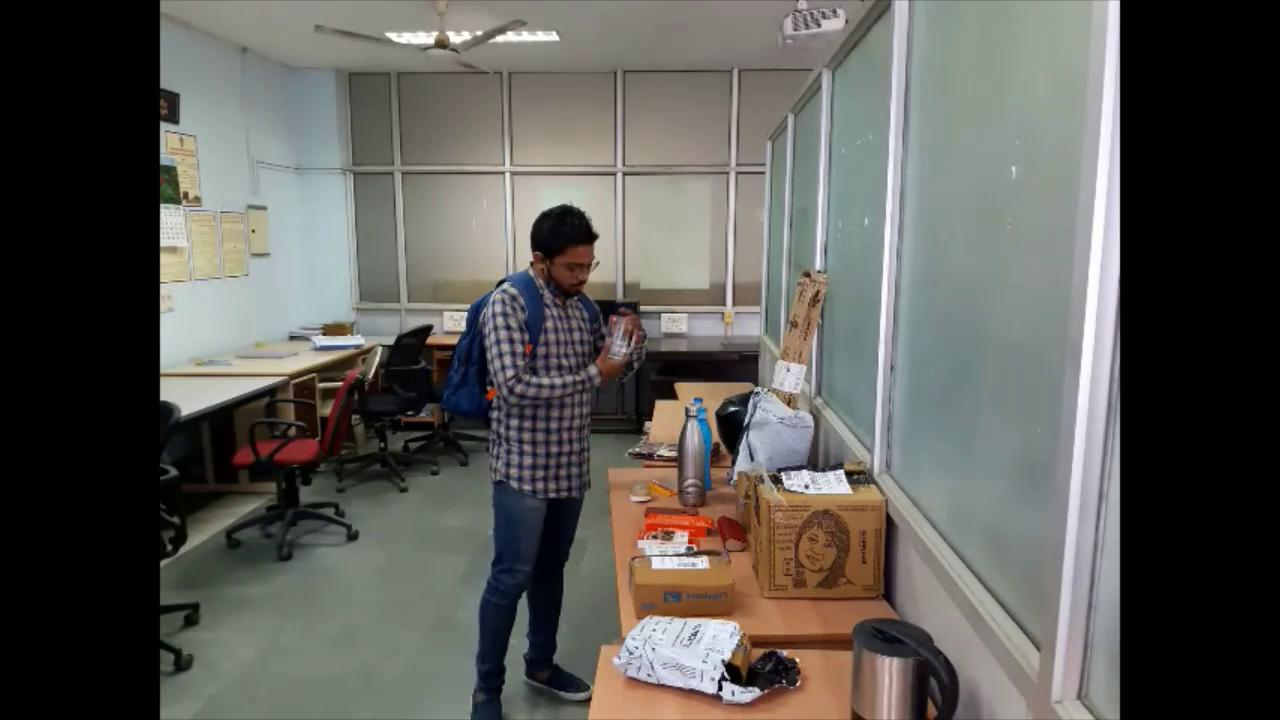Normal: (431, 202, 655, 720)
